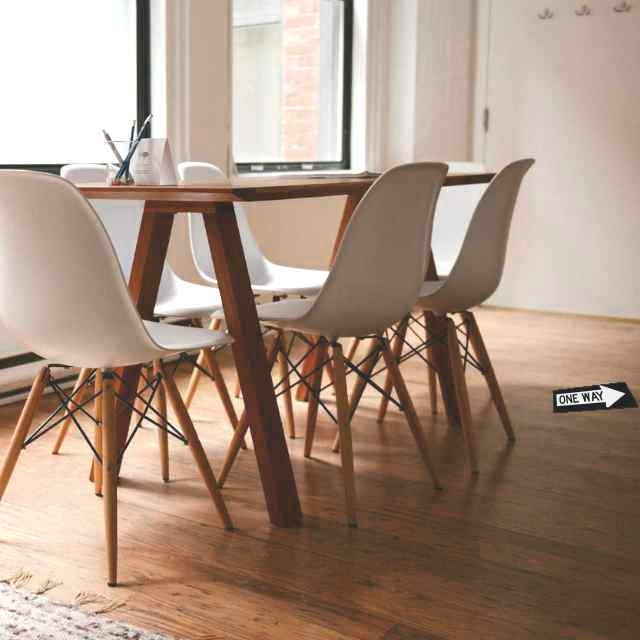ONE_WAY_ right: (552, 381, 639, 413)
